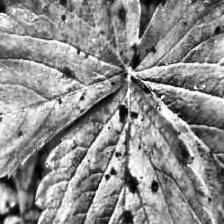Leaf Spot: (32, 71, 220, 224), (0, 0, 141, 180), (129, 0, 224, 224)
